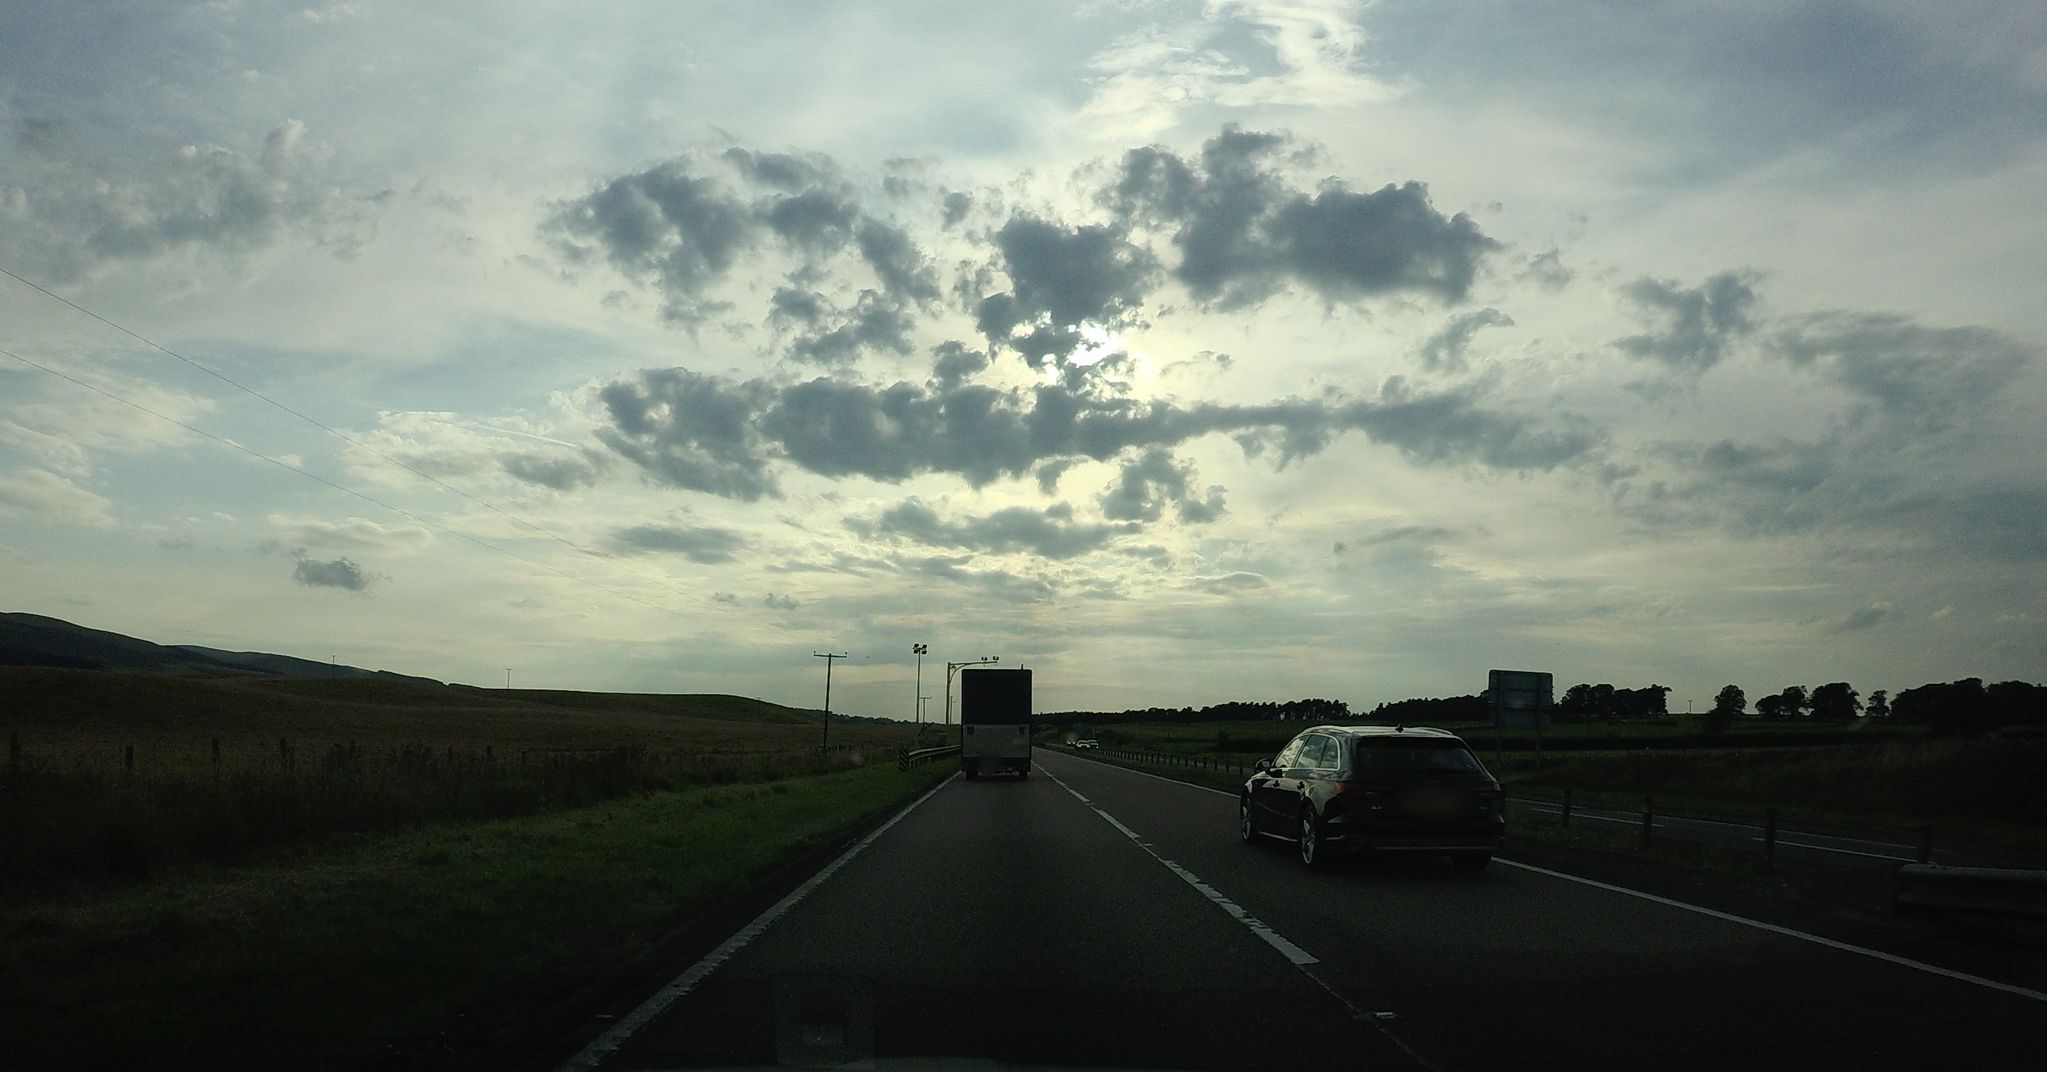car: (1236, 721, 1505, 872), (1074, 739, 1090, 749), (1088, 739, 1099, 749)
truck: (956, 662, 1029, 777)
